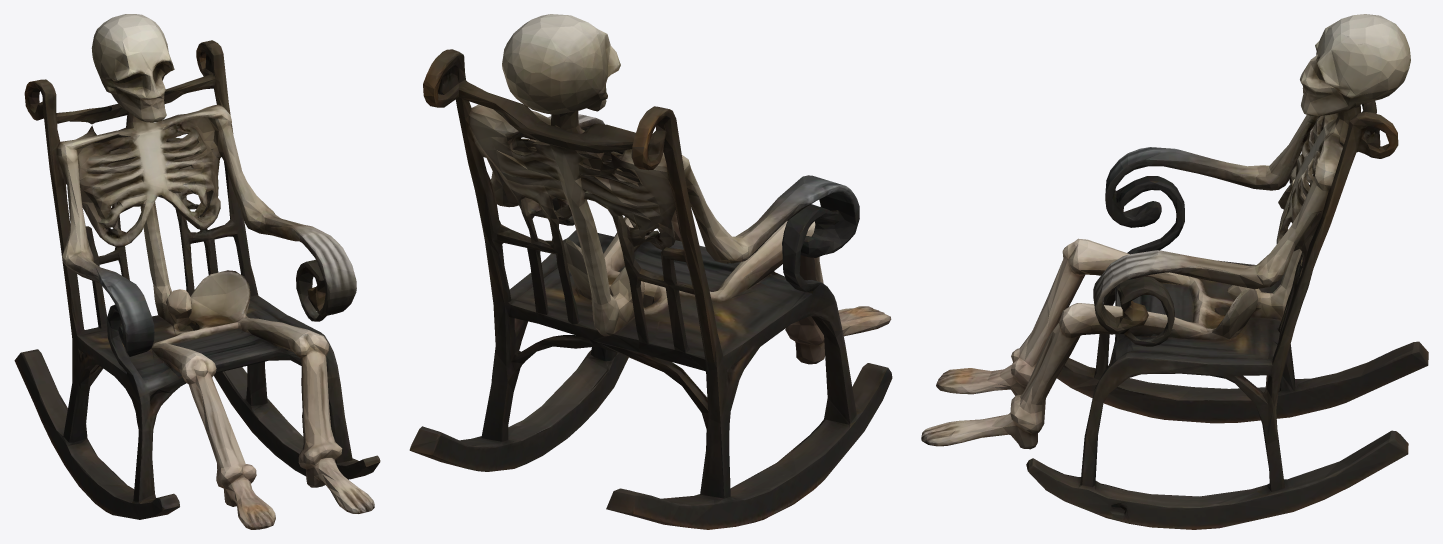
File: skeleton_rocking_chair.glb
3 renders of one model, left to right at view 1: azimuth 30°, elevation 25°; view 2: azimuth 150°, elevation 25°; view 3: azimuth 270°, elevation 25°, orthographic. The views are drawn at different scales.
Visible parts, largest first — view 1: geometry_0; view 2: geometry_0; view 3: geometry_0.
Boxes of the visible parts, x1,y1,x2,y2 form: geometry_0: (14,14,380,529); geometry_0: (409,14,892,529); geometry_0: (921,14,1428,529).
Size of the model in its own units: 0.5755 by 0.9879 by 0.9988.
1 material, 1 textured.
